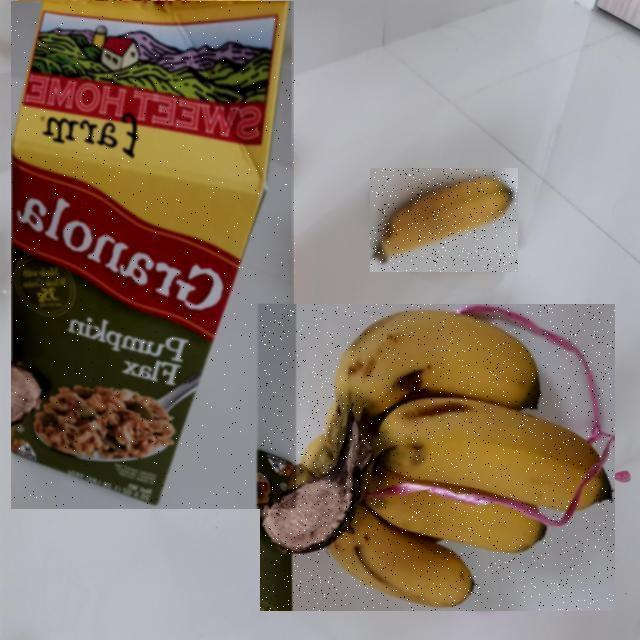Book: (260, 304, 615, 611), (371, 168, 519, 272)
Cereal: (12, 1, 296, 509)
